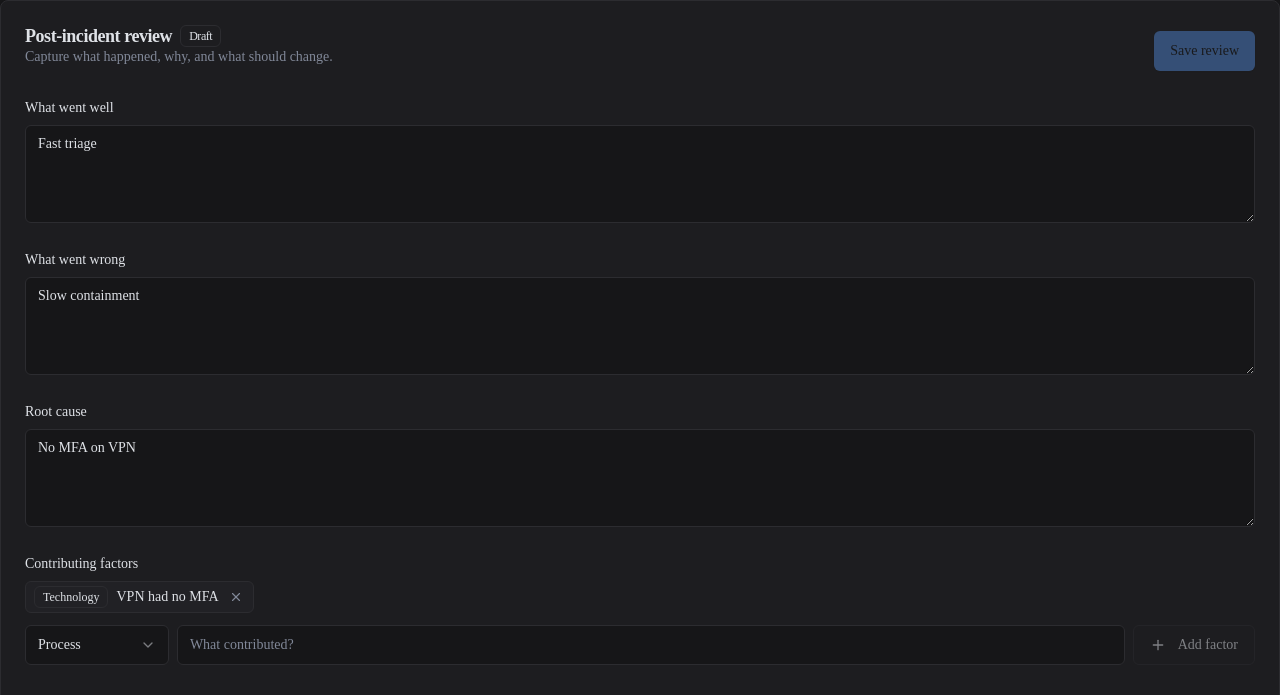
PostIncidentReviewTab › remote changes › never overwrites an open form: shows a banner and loads theirs on request
Replace the text in the text box labelled "Root cause" with "my unsaved edit" at (640, 478), box [25, 429, 1255, 527]
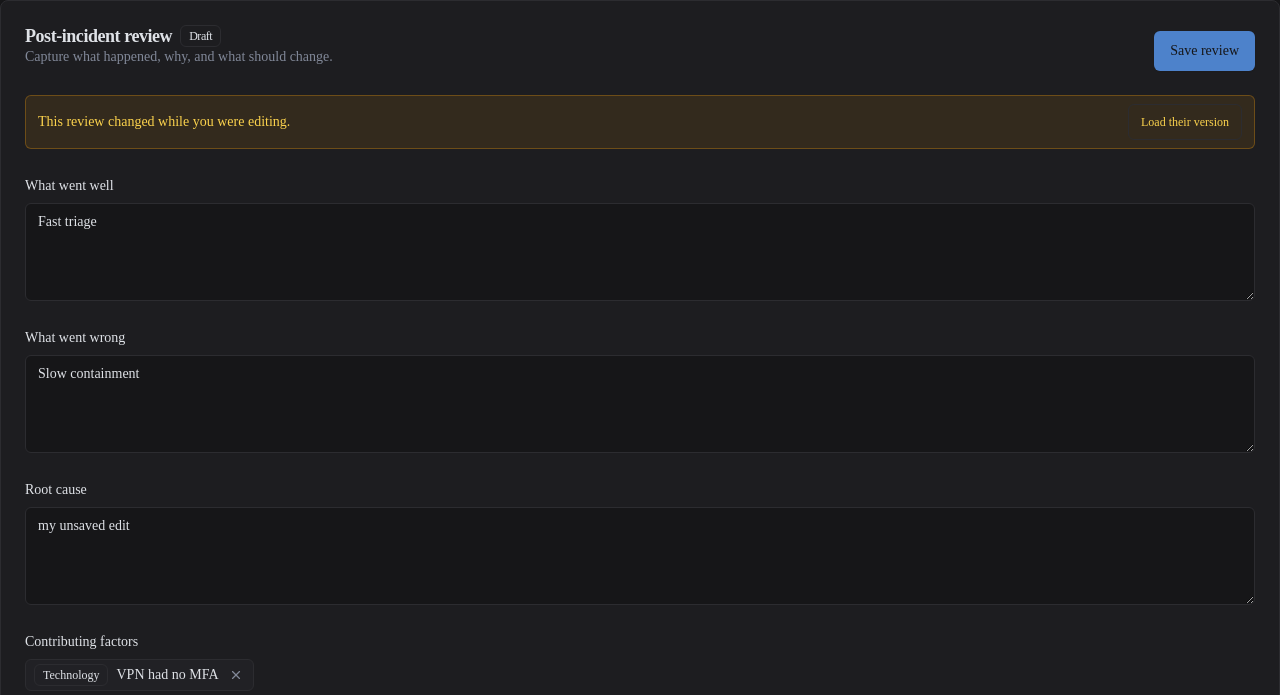
Now the text "This review changed while you were editing." is shown, box [38, 112, 290, 132]
Click the button "Load their version".
click(1185, 122)  # box [1128, 104, 1242, 140]
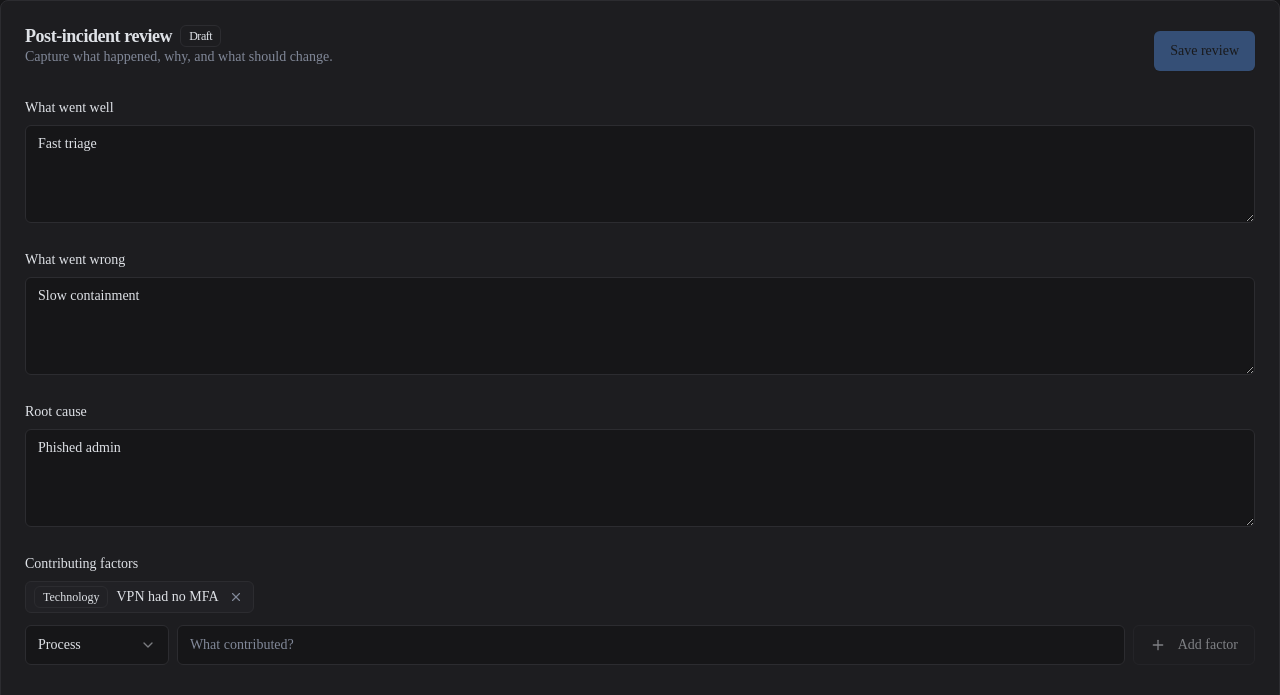
Now the text box labelled "Root cause" holds "Phished admin", box [25, 429, 1255, 527]
Now the text "changed while you were editing" is gone
